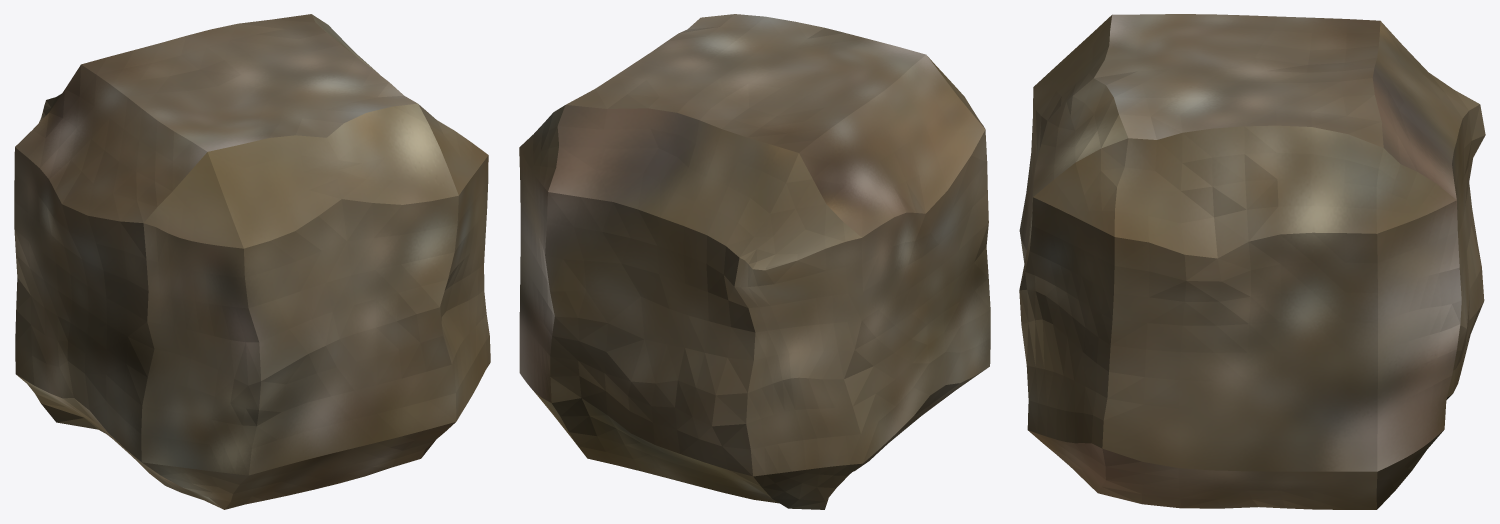
Rendered from rock.obj.
3 views of the same model, side by side, from view 1: azimuth 30°, elevation 25°; view 2: azimuth 150°, elevation 25°; view 3: azimuth 270°, elevation 25° (orthographic). The views are drawn at different scales.
Visible parts, largest first — view 1: Cube; view 2: Cube; view 3: Cube.
Part boxes in pixels (x1=…): Cube: x1=14, y1=14, x2=490, y2=509; Cube: x1=519, y1=14, x2=990, y2=509; Cube: x1=1019, y1=14, x2=1485, y2=509.
Bounding box in the file's own units: 1.03 × 1.04 × 1.1.
1 material, 1 textured.
